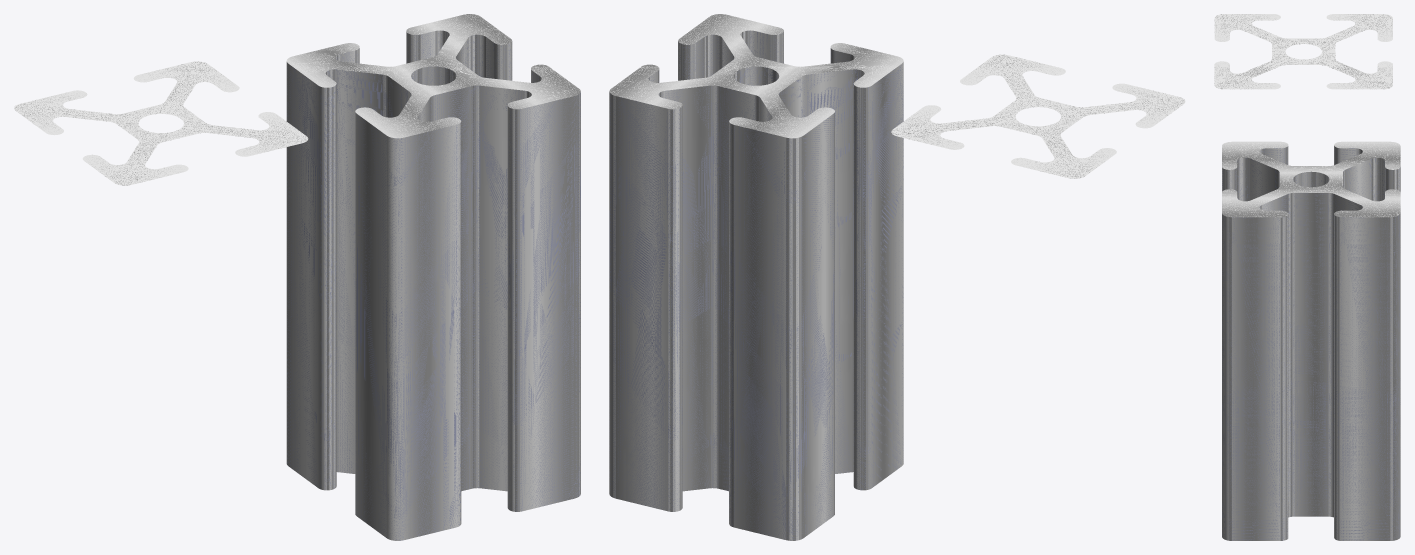
3 views of the same model, side by side, from view 1: azimuth 30°, elevation 25°; view 2: azimuth 150°, elevation 25°; view 3: azimuth 270°, elevation 25° (orthographic). The views are drawn at different scales.
Parts seen in each view (by area): view 1: _8020_number_1010_rail_2_inch_segment (×2), one-eigth_8020_number_10_rail_cross-section (×8); view 2: _8020_number_1010_rail_2_inch_segment (×2), one-eigth_8020_number_10_rail_cross-section (×8); view 3: _8020_number_1010_rail_2_inch_segment (×2), one-eigth_8020_number_10_rail_cross-section (×8).
Part boxes in pixels (left/top/right/bottom): _8020_number_1010_rail_2_inch_segment (×2): left=286, top=14, right=580, bottom=540; one-eigth_8020_number_10_rail_cross-section (×8): left=14, top=61, right=308, bottom=185; _8020_number_1010_rail_2_inch_segment (×2): left=609, top=14, right=903, bottom=540; one-eigth_8020_number_10_rail_cross-section (×8): left=891, top=54, right=1185, bottom=178; _8020_number_1010_rail_2_inch_segment (×2): left=1222, top=141, right=1400, bottom=540; one-eigth_8020_number_10_rail_cross-section (×8): left=1214, top=14, right=1392, bottom=89.
Size of the model in its own units: 29.29 by 12.51 by 25.41.
Materials: 3 (1 with a texture image).
